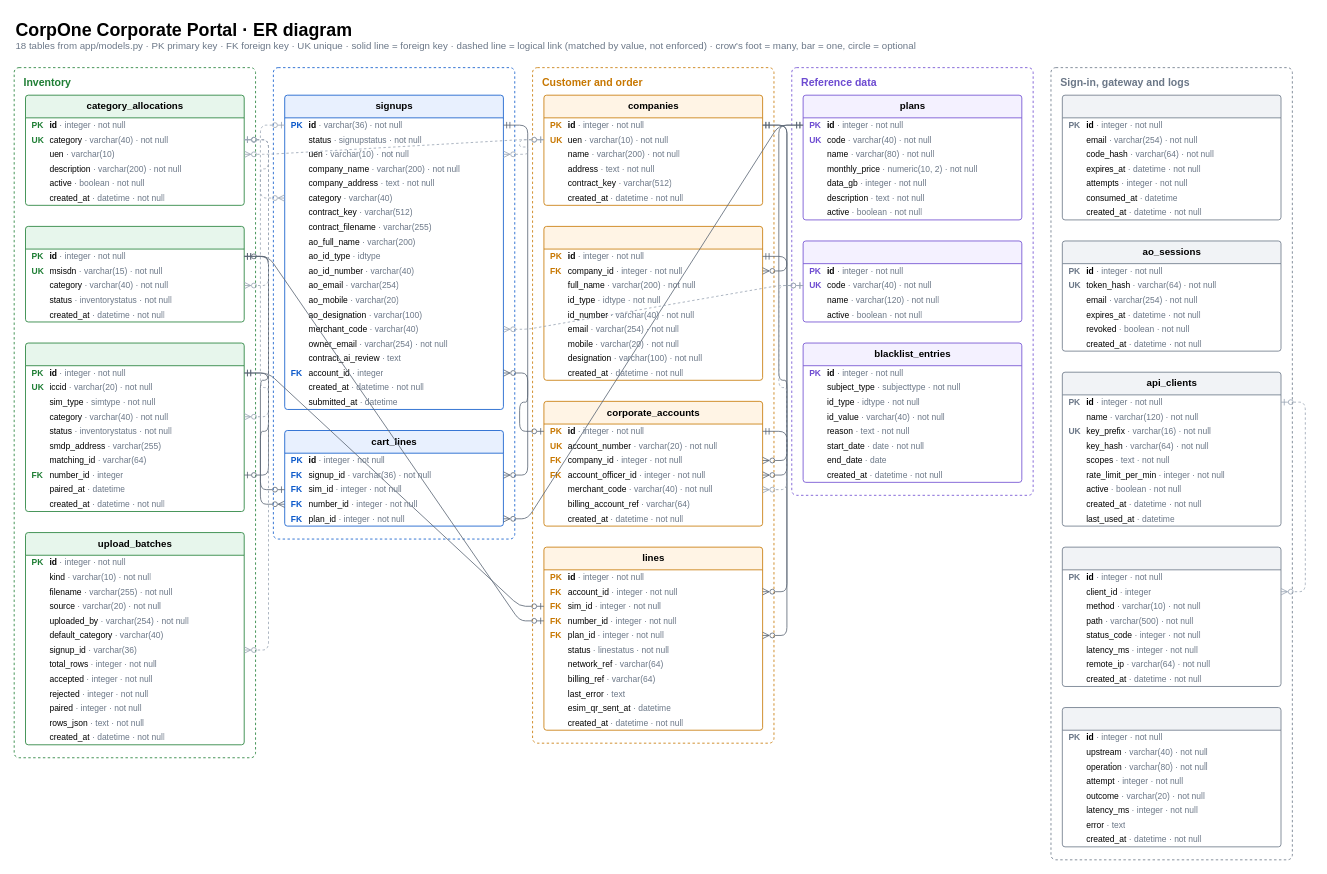
Some shapes in this 1327 by 874 pixel diagram are drawn without their labels. The shapes that lost their labels are listed below. From the top down, each one's box as (x1, y1, x2, y2) in pixels, then its label:
(1062, 94, 1281, 220): otp_challenges
(25, 226, 244, 322): number_inventory
(802, 240, 1022, 322): merchants
(273, 67, 515, 539): Sign-up (draft order)
(543, 226, 763, 380): account_officers
(25, 342, 244, 512): sim_inventory
(1062, 546, 1281, 686): gateway_audit_log
(1062, 707, 1281, 847): outbound_call_log
